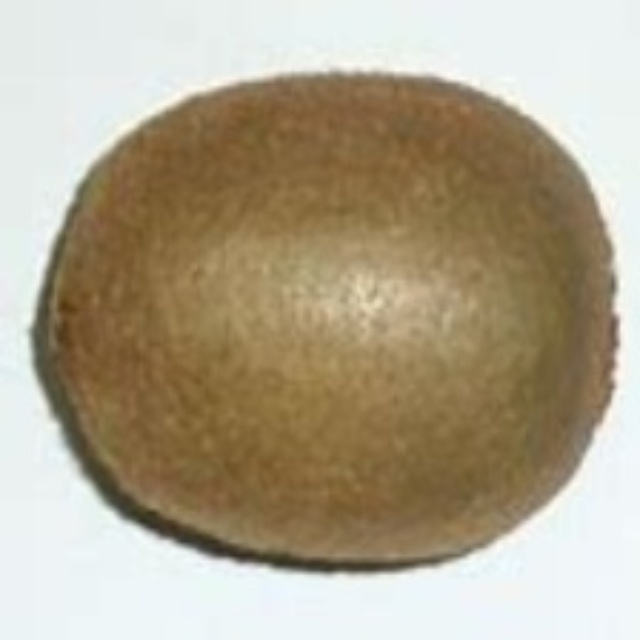kiwi: (41, 67, 627, 576)
